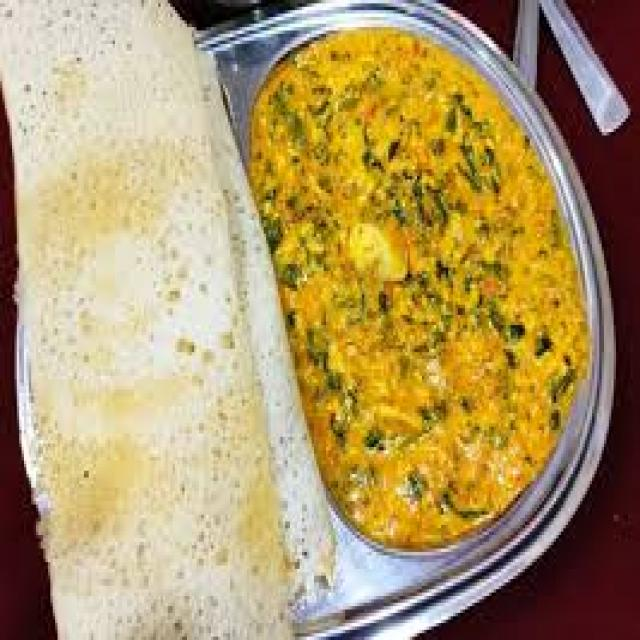DOSA: (0, 0, 333, 637)
